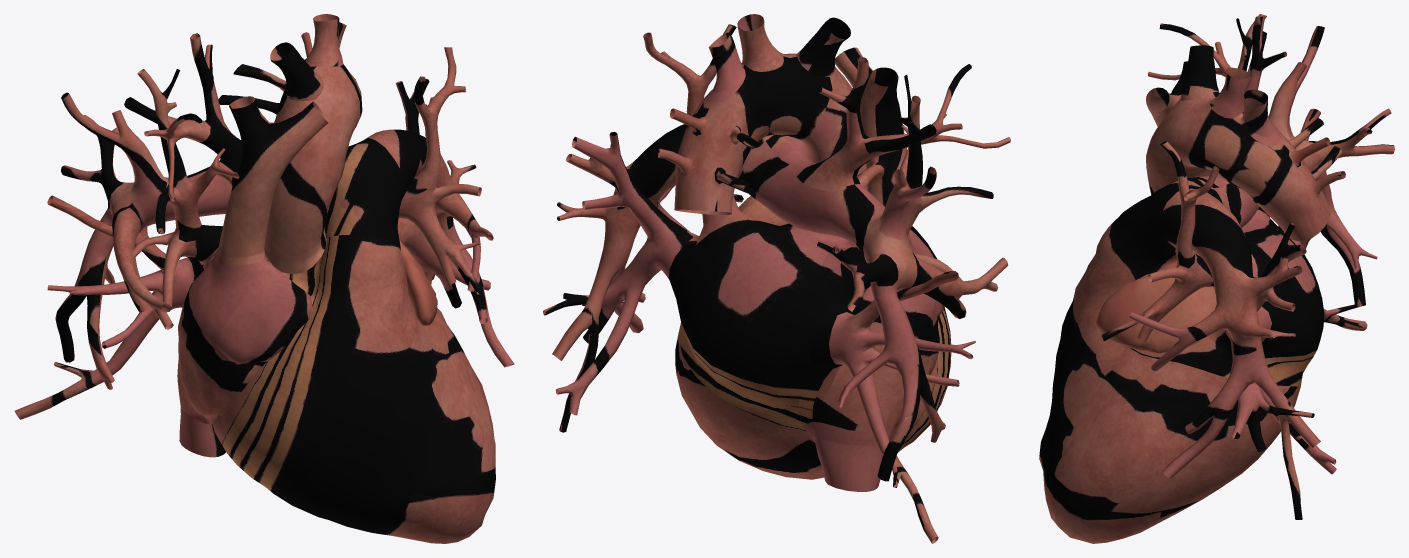
File: Circulatory.Heart_exterior.Ventricular_epicardium.obj
The picture shows the model from 3 angles, left to right: view 1: azimuth 30°, elevation 25°; view 2: azimuth 150°, elevation 25°; view 3: azimuth 270°, elevation 25°; orthographic projection. The views are drawn at different scales.
Parts seen in each view (by area): view 1: Circulatory:Heart_exterior:Ventricular_epicardium_Heart_exterior; view 2: Circulatory:Heart_exterior:Ventricular_epicardium_Heart_exterior; view 3: Circulatory:Heart_exterior:Ventricular_epicardium_Heart_exterior.
Part boxes in pixels (x1,y1,x2,y2): Circulatory:Heart_exterior:Ventricular_epicardium_Heart_exterior: (14,14,514,543); Circulatory:Heart_exterior:Ventricular_epicardium_Heart_exterior: (543,14,1010,543); Circulatory:Heart_exterior:Ventricular_epicardium_Heart_exterior: (1039,14,1394,543).
Bounding box in the file's own units: 0.7229 × 0.8028 × 0.5737.
